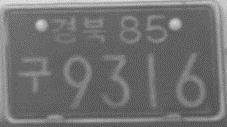1: (144, 50, 160, 110)
3: (100, 53, 130, 109)
5: (144, 13, 168, 46)
6: (174, 51, 207, 110)
8: (118, 13, 141, 46)
9: (61, 53, 93, 111)
경북_O: (49, 15, 107, 45)
구: (15, 55, 53, 94)
